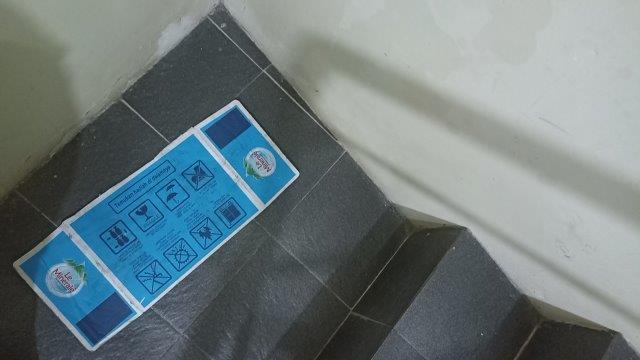kardus: (14, 101, 298, 351)
